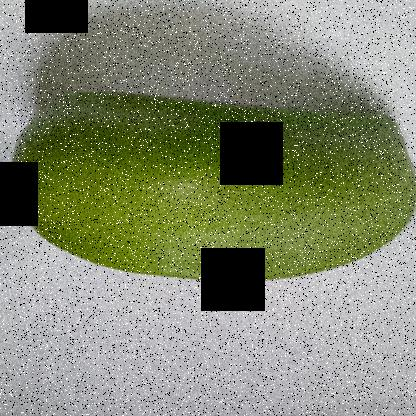freshunripe: (1, 78, 415, 293)
